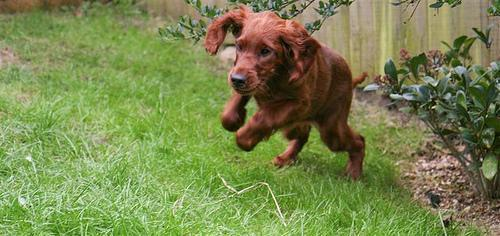Irish_setter: (203, 5, 368, 180)
